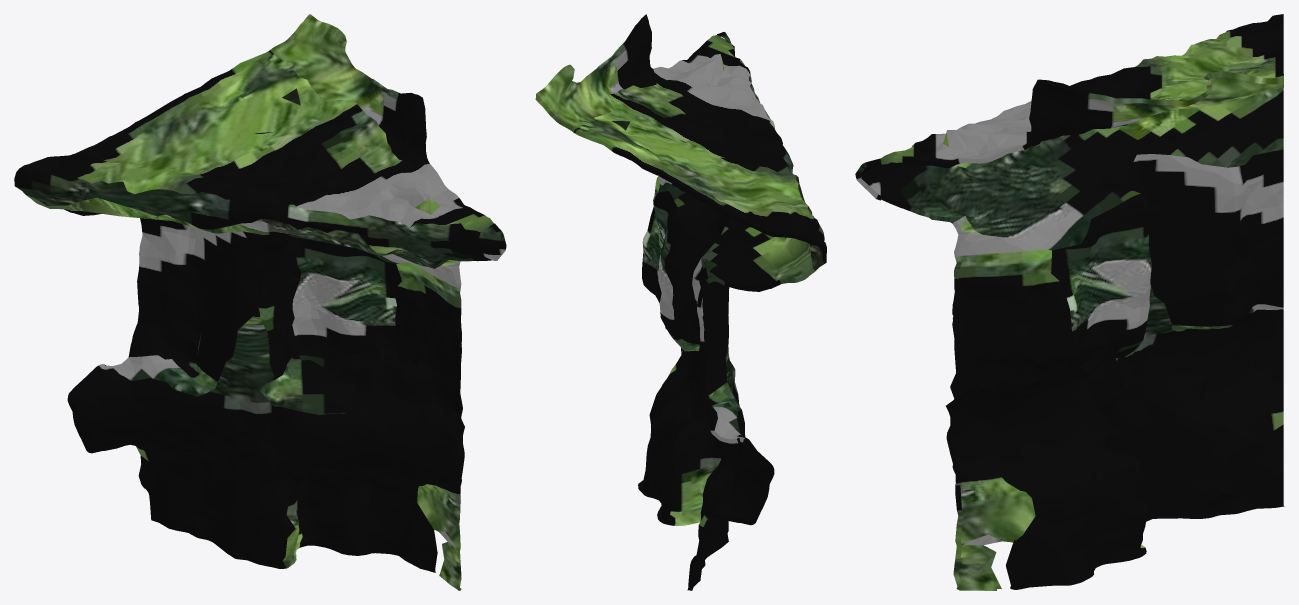
3 renders of one model, left to right at view 1: azimuth 30°, elevation 25°; view 2: azimuth 150°, elevation 25°; view 3: azimuth 270°, elevation 25°, orthographic. The views are drawn at different scales.
Visible parts, largest first — view 1: node_158; view 2: node_158; view 3: node_158.
Part boxes in pixels (x1,y1,x2,y2): node_158: (14,14,506,590); node_158: (535,14,826,590); node_158: (855,14,1284,590).
Size of the model in its own units: 5.5 by 8.33 by 6.25.
Materials: 1 (1 with a texture image).
